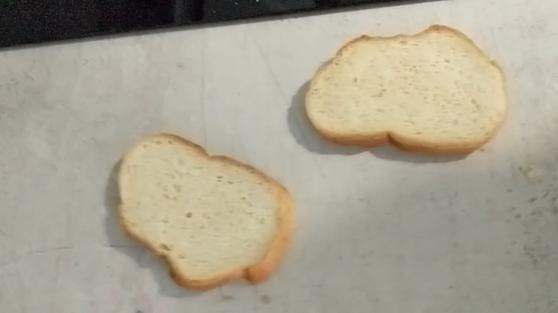white_bread: (112, 138, 300, 294), (299, 22, 511, 153)
